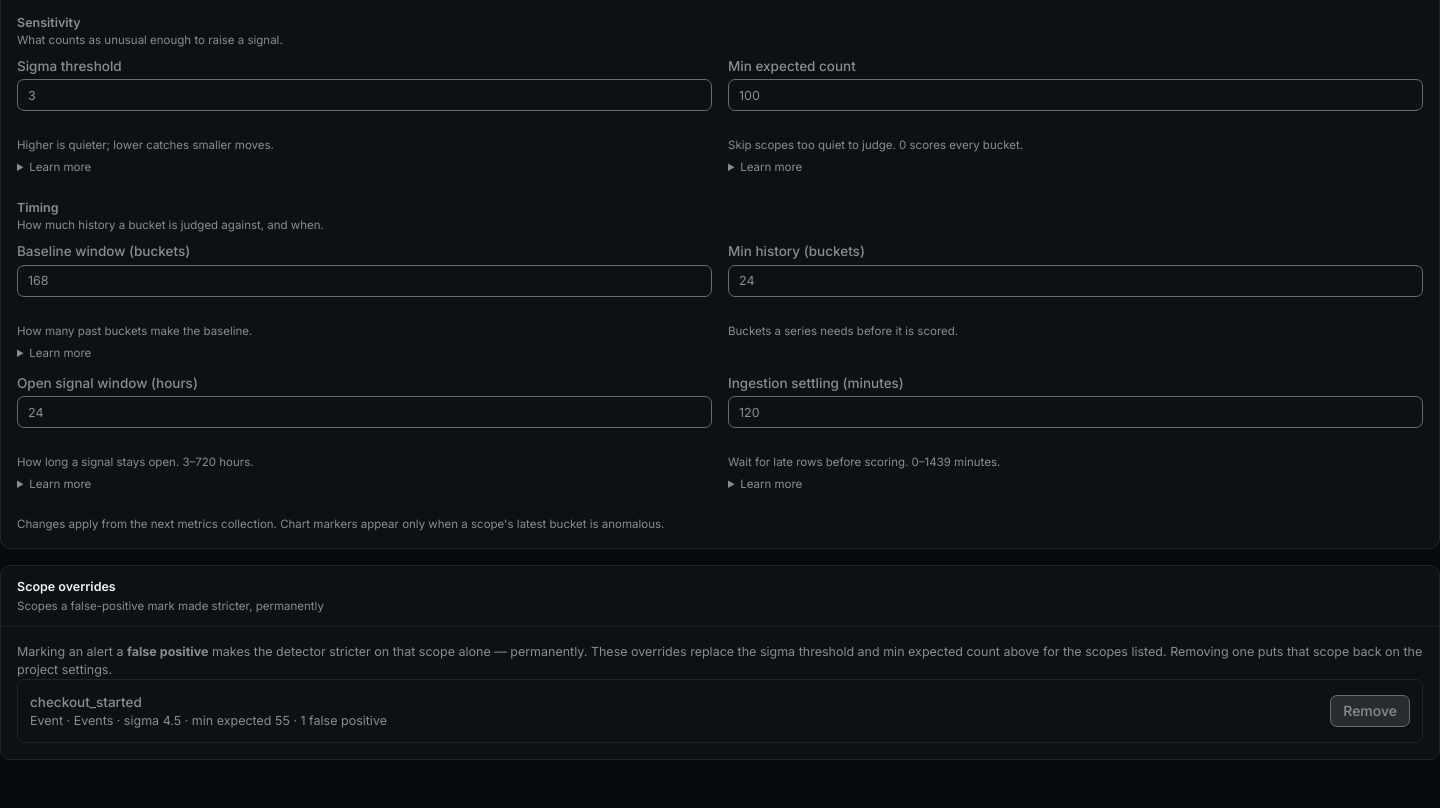
Test case: MonitoringTab — false-positive scope overrides › removes an override so the scope falls back to the project settings
This screenshot has width=1440, height=808.
(page scrolled)
Click the button with aria-label "Remove override for checkout_started": coordinates (1370, 711) [1330, 695, 1410, 727]
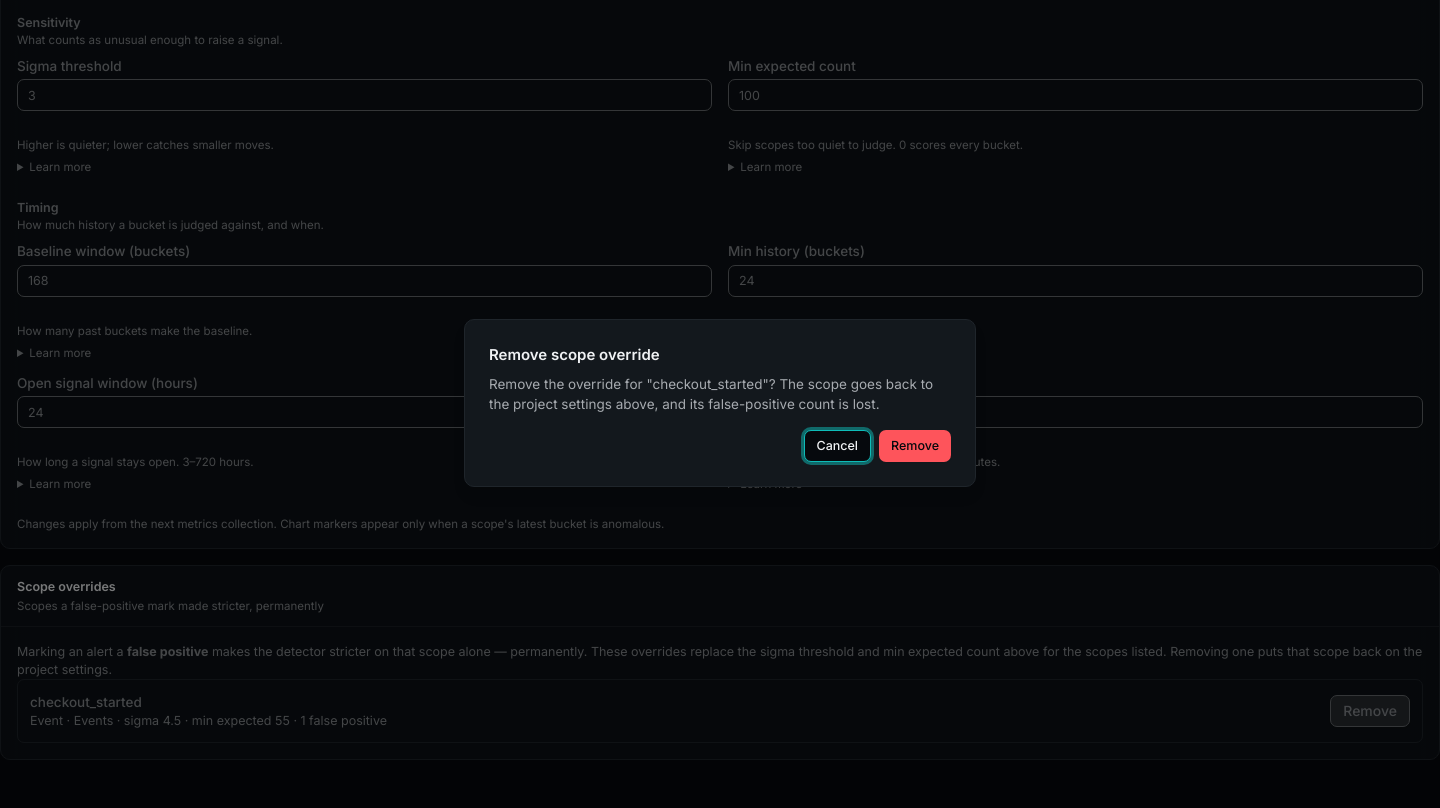
Click the button "Remove": coordinates (915, 446) [879, 430, 951, 462]
(page scrolled)
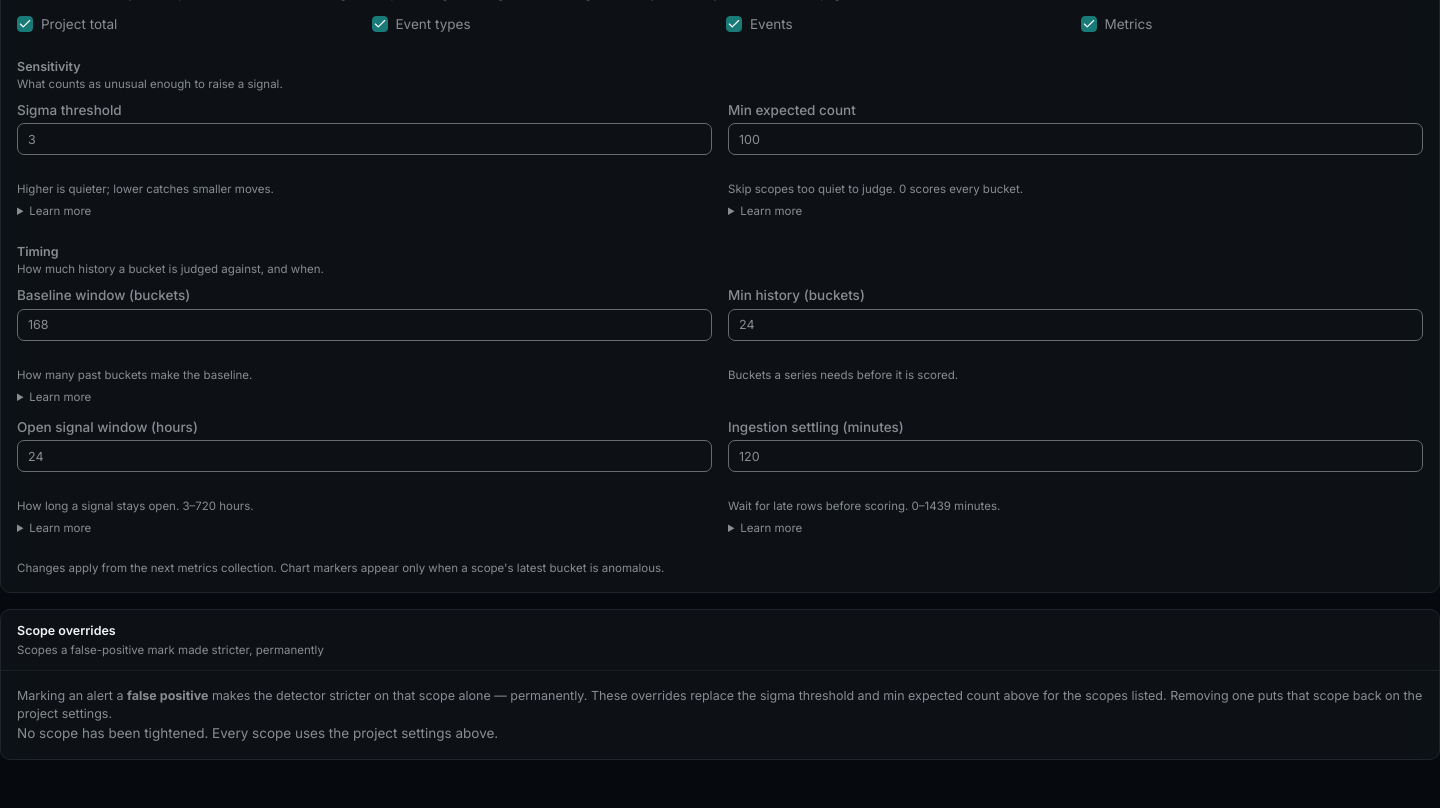
Check: the text "No scope has been tightened" is shown, box [17, 725, 498, 741]
